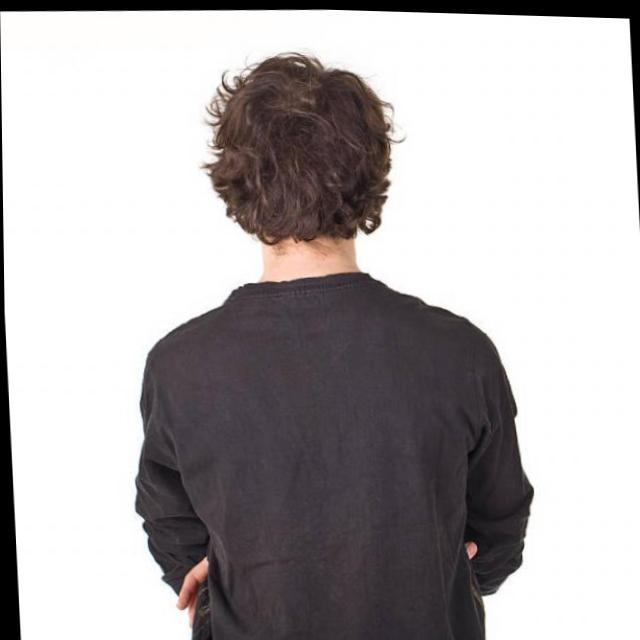no helmet: (199, 41, 400, 252)
